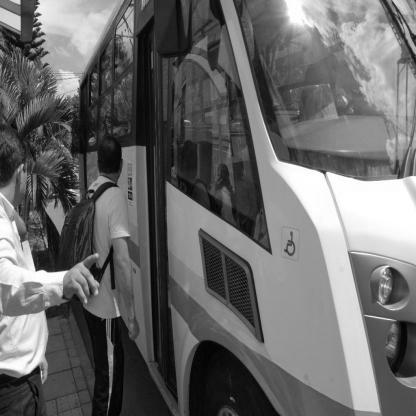bus: (56, 1, 407, 416)
